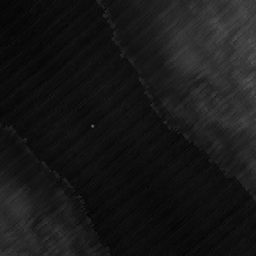Target: (89, 122, 95, 129)
